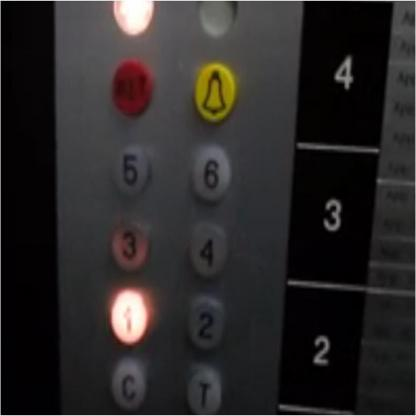1: (110, 288, 146, 342)
2: (188, 297, 224, 350)
3: (110, 219, 149, 271)
4: (188, 219, 227, 277)
5: (111, 144, 150, 196)
6: (190, 146, 230, 202)
C: (110, 358, 146, 409)
T: (186, 368, 221, 415)
alarm: (193, 62, 235, 122)
blur: (110, 59, 153, 116)
